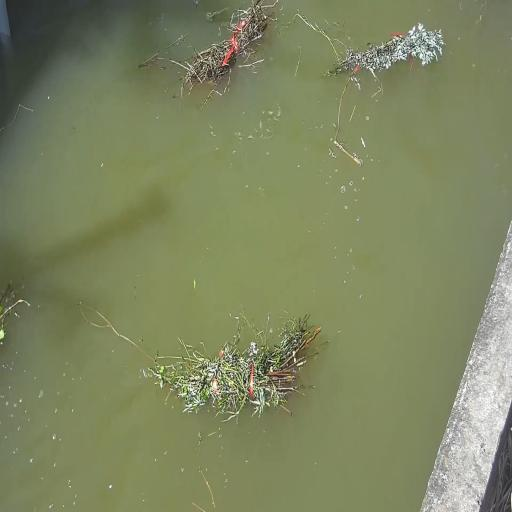twig: (144, 308, 316, 423), (159, 0, 282, 94), (326, 9, 450, 91), (0, 277, 27, 344)
